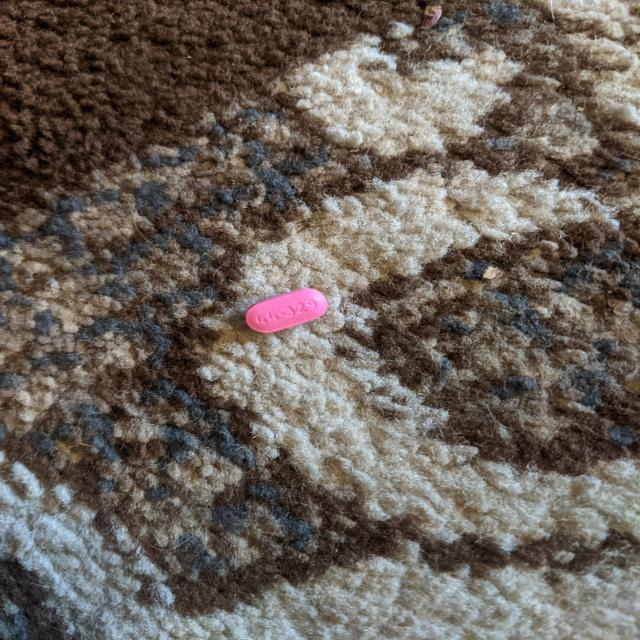non-organic waste: (244, 287, 329, 334)
